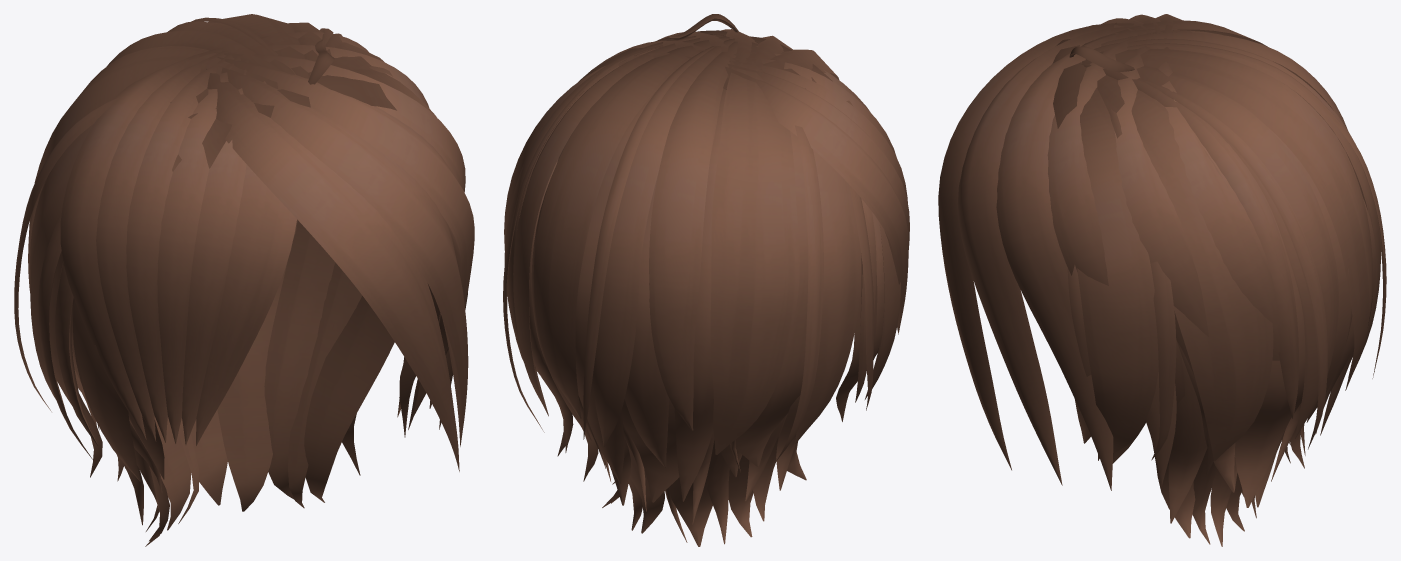
File: vroid_hair_c11v3.glb
The picture shows the model from 3 angles, left to right: view 1: azimuth 30°, elevation 25°; view 2: azimuth 150°, elevation 25°; view 3: azimuth 270°, elevation 25°; orthographic projection. The views are drawn at different scales.
Visible parts, largest first — view 1: hair; view 2: hair; view 3: hair.
Part boxes in pixels (bbox=[...]): hair: bbox=[14, 14, 474, 546]; hair: bbox=[503, 14, 909, 546]; hair: bbox=[938, 14, 1386, 546].
Size of the model in its own units: 0.2174 by 0.2737 by 0.2306.
Materials: 1 (1 with a texture image).
